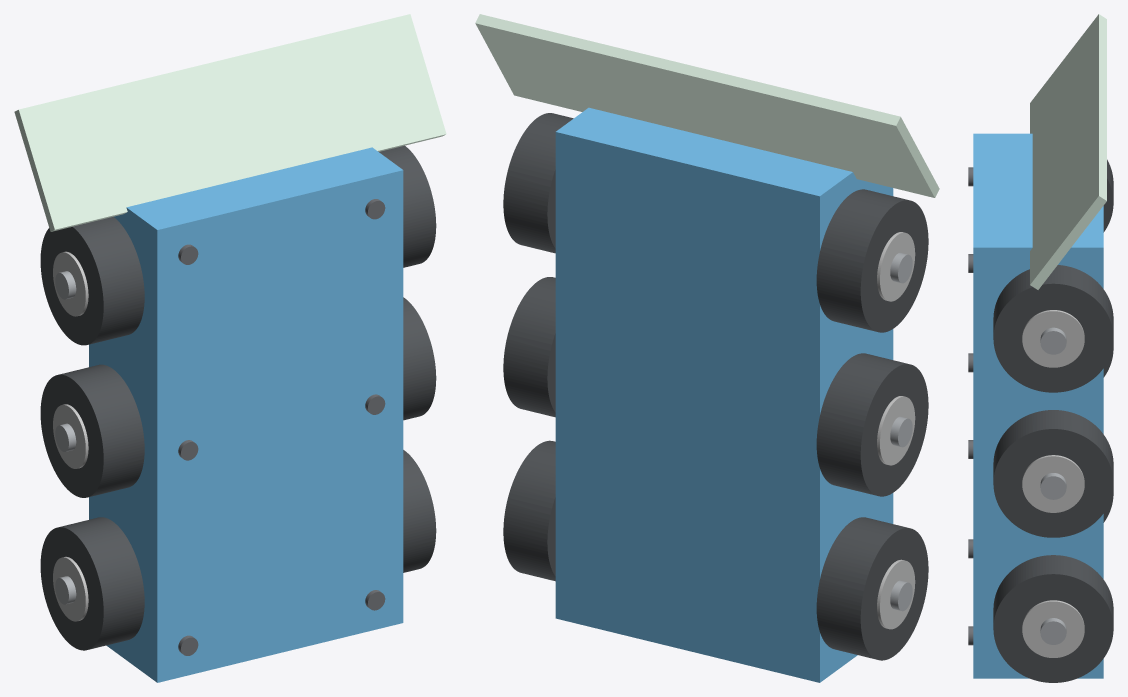
Rendered from blue_terror.glb.
3 renders of one model, left to right at view 1: azimuth 30°, elevation 25°; view 2: azimuth 150°, elevation 25°; view 3: azimuth 270°, elevation 25°, orthographic. The views are drawn at different scales.
Parts seen in each view (by area): view 1: chassis, scoop, wheel_r0, wheel_r1, wheel_r2, wheel_l2, wheel_l1, wheel_l0, dt_hub_wheel_r0, dt_hub_wheel_r2, dt_hub_wheel_r1; view 2: chassis, scoop, wheel_r1, wheel_r0, wheel_r2, wheel_l2, wheel_l0, wheel_l1, dt_hub_wheel_r2, dt_hub_wheel_r0, dt_hub_wheel_r1; view 3: chassis, scoop, wheel_l1, wheel_l0, wheel_l2, dt_hub_wheel_l0, dt_hub_wheel_l2, dt_hub_wheel_l1, dt_nut_wheel_l2, dt_nut_wheel_l1, dt_nut_wheel_l0, wheel_r2.
Part boxes in pixels (x1,y1,x2,y2): chassis: [89, 147, 403, 682]; scoop: [14, 14, 446, 231]; wheel_r0: [40, 517, 144, 650]; wheel_r1: [40, 364, 144, 497]; wheel_r2: [40, 217, 144, 345]; wheel_l2: [379, 145, 436, 267]; wheel_l1: [403, 297, 436, 420]; wheel_l0: [403, 450, 436, 572]; dt_hub_wheel_r0: [53, 556, 88, 621]; dt_hub_wheel_r2: [53, 251, 88, 316]; dt_hub_wheel_r1: [53, 404, 88, 468]; chassis: [555, 107, 893, 682]; scoop: [475, 14, 939, 197]; wheel_r1: [816, 353, 928, 496]; wheel_r0: [816, 517, 928, 660]; wheel_r2: [816, 189, 928, 332]; wheel_l2: [503, 113, 573, 253]; wheel_l0: [503, 440, 555, 581]; wheel_l1: [503, 277, 555, 417]; dt_hub_wheel_r2: [877, 232, 915, 301]; dt_hub_wheel_r0: [877, 559, 915, 629]; dt_hub_wheel_r1: [877, 396, 915, 465]; chassis: [973, 133, 1103, 678]; scoop: [1030, 14, 1106, 289]; wheel_l1: [993, 410, 1113, 537]; wheel_l0: [993, 555, 1113, 682]; wheel_l2: [993, 265, 1113, 392]; dt_hub_wheel_l0: [1022, 600, 1084, 657]; dt_hub_wheel_l2: [1022, 310, 1084, 367]; dt_hub_wheel_l1: [1022, 455, 1084, 512]; dt_nut_wheel_l2: [1040, 327, 1066, 354]; dt_nut_wheel_l1: [1040, 473, 1066, 499]; dt_nut_wheel_l0: [1040, 618, 1066, 644]; wheel_r2: [1103, 159, 1113, 232].
Bounding box in the file's own units: 86 × 114 × 29.
